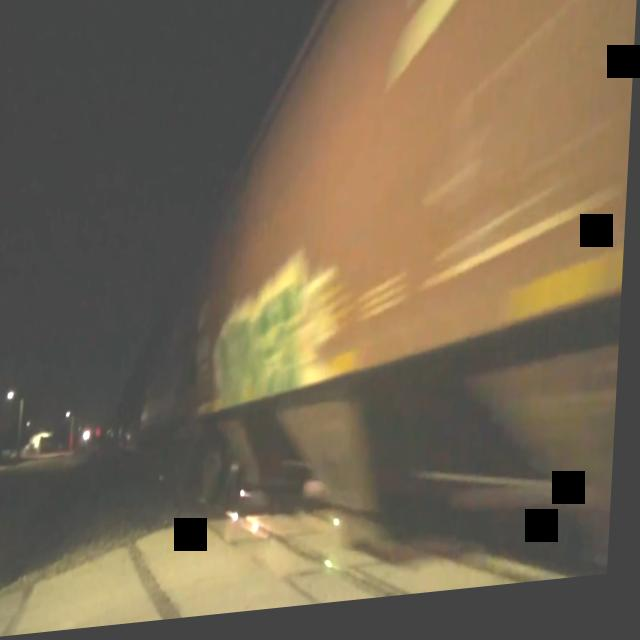hopper: (159, 0, 640, 625)
